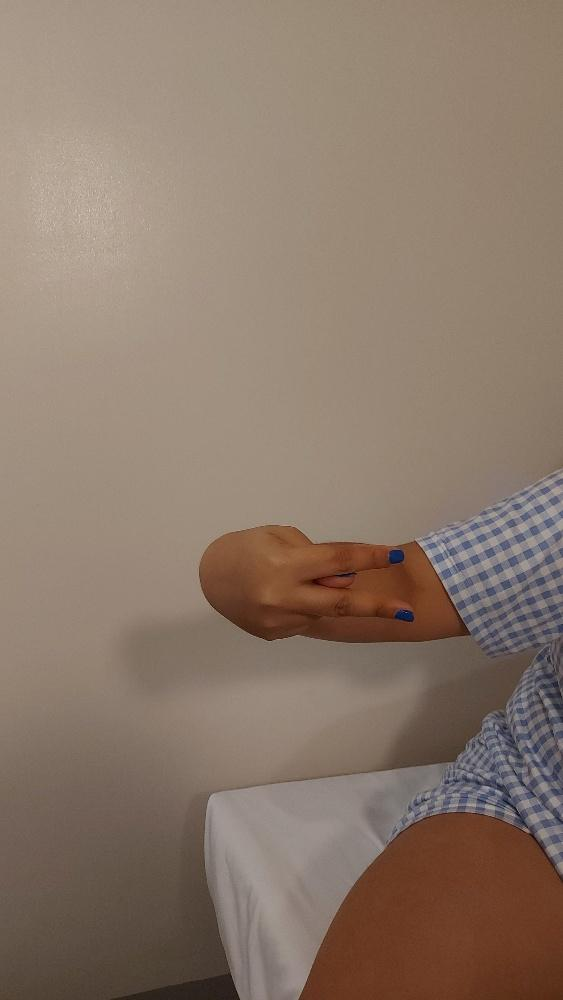k: (196, 521, 415, 641)
